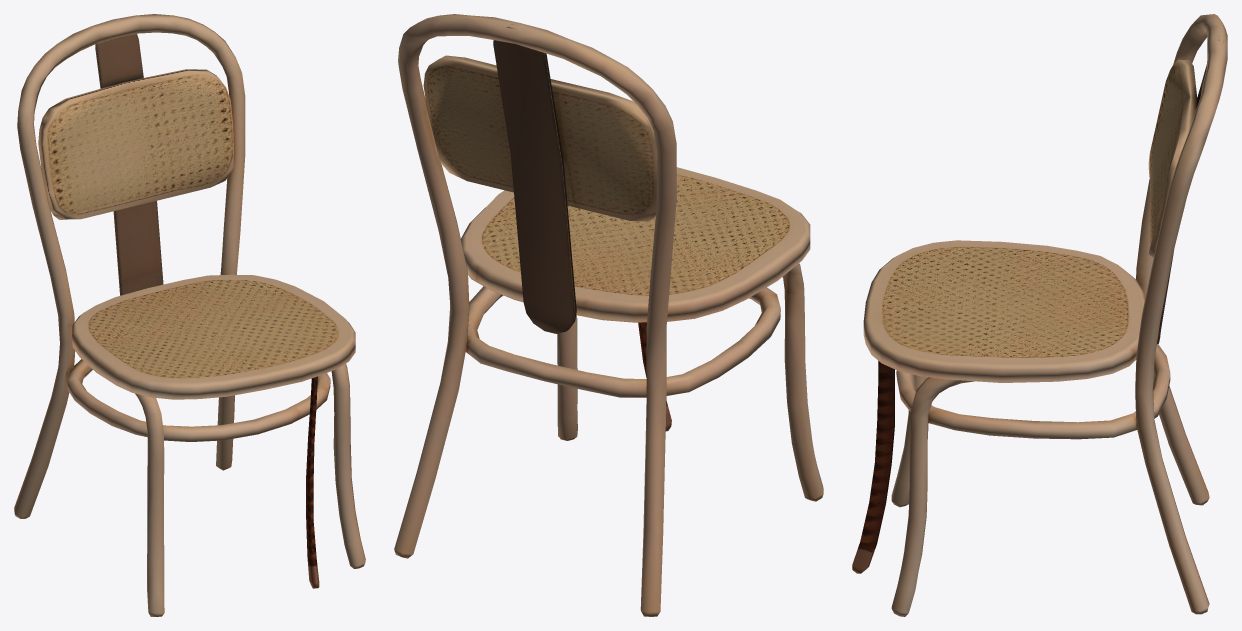
The picture shows the model from 3 angles, left to right: view 1: azimuth 30°, elevation 25°; view 2: azimuth 150°, elevation 25°; view 3: azimuth 270°, elevation 25°; orthographic projection. The views are drawn at different scales.
Visible parts, largest first — view 1: tripo_node_02fed087-ae58-4a89-bbbb-f3ec76109d08; view 2: tripo_node_02fed087-ae58-4a89-bbbb-f3ec76109d08; view 3: tripo_node_02fed087-ae58-4a89-bbbb-f3ec76109d08.
Boxes of the visible parts, left/top/right/bottom form: tripo_node_02fed087-ae58-4a89-bbbb-f3ec76109d08: left=14, top=14, right=365, bottom=616; tripo_node_02fed087-ae58-4a89-bbbb-f3ec76109d08: left=394, top=14, right=823, bottom=616; tripo_node_02fed087-ae58-4a89-bbbb-f3ec76109d08: left=852, top=14, right=1227, bottom=616.
Size of the model in its own units: 0.5176 by 0.998 by 0.6504.
1 material, 1 textured.
